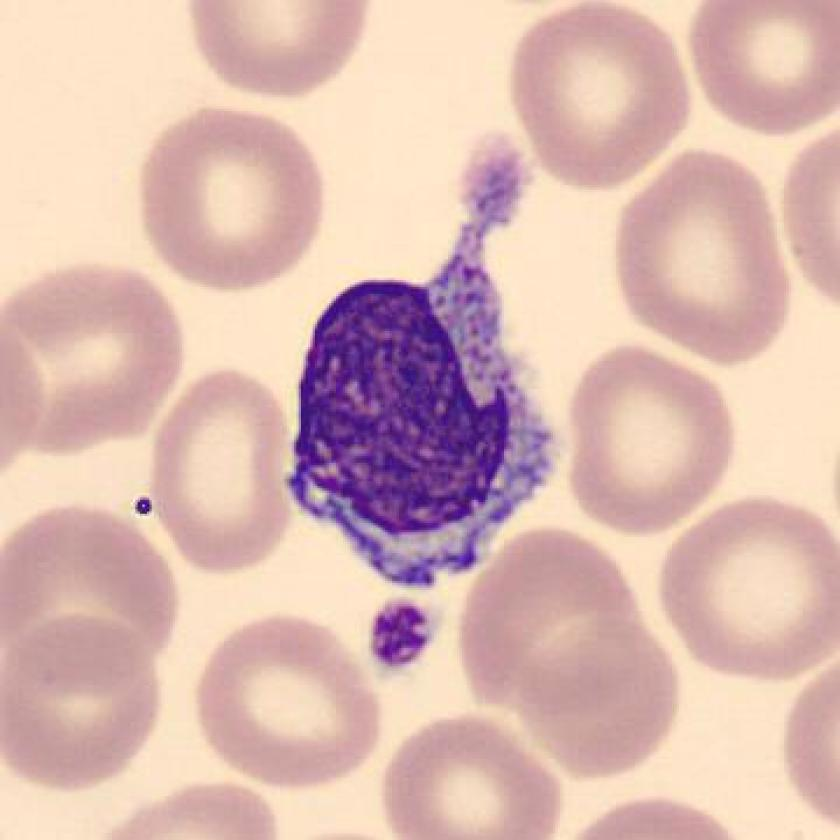lymphocyte: (270, 114, 571, 598)
